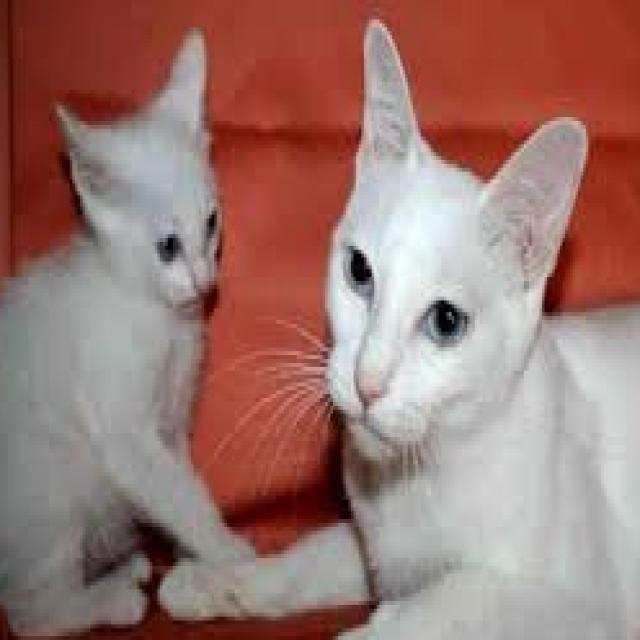Khao Manee: (222, 11, 640, 640), (0, 23, 258, 640)
